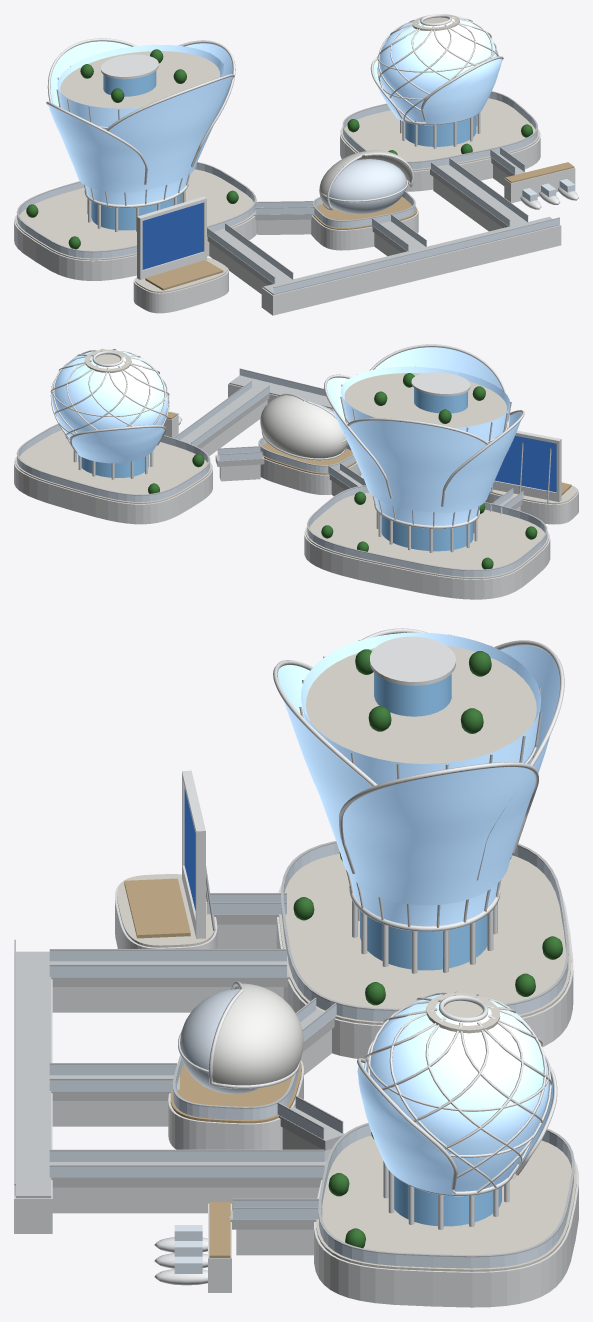
The model's file is sebitseom.glb.
3 renders of one model, top to bottom at view 1: azimuth 30°, elevation 25°; view 2: azimuth 150°, elevation 25°; view 3: azimuth 270°, elevation 25°, orthographic. The views are drawn at different scales.
Size of the model in its own units: 93.27 by 31.56 by 52.38.
